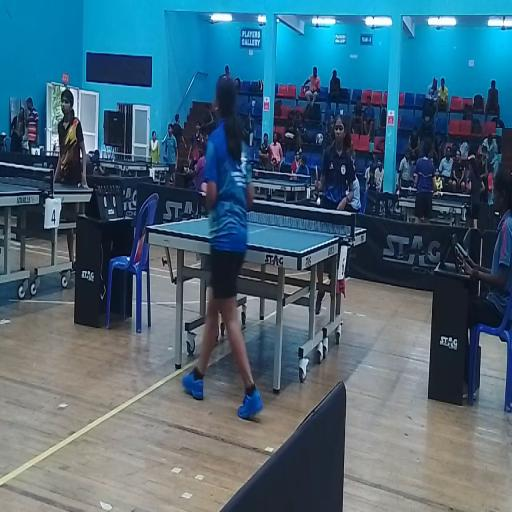ball: (316, 197, 320, 206)
